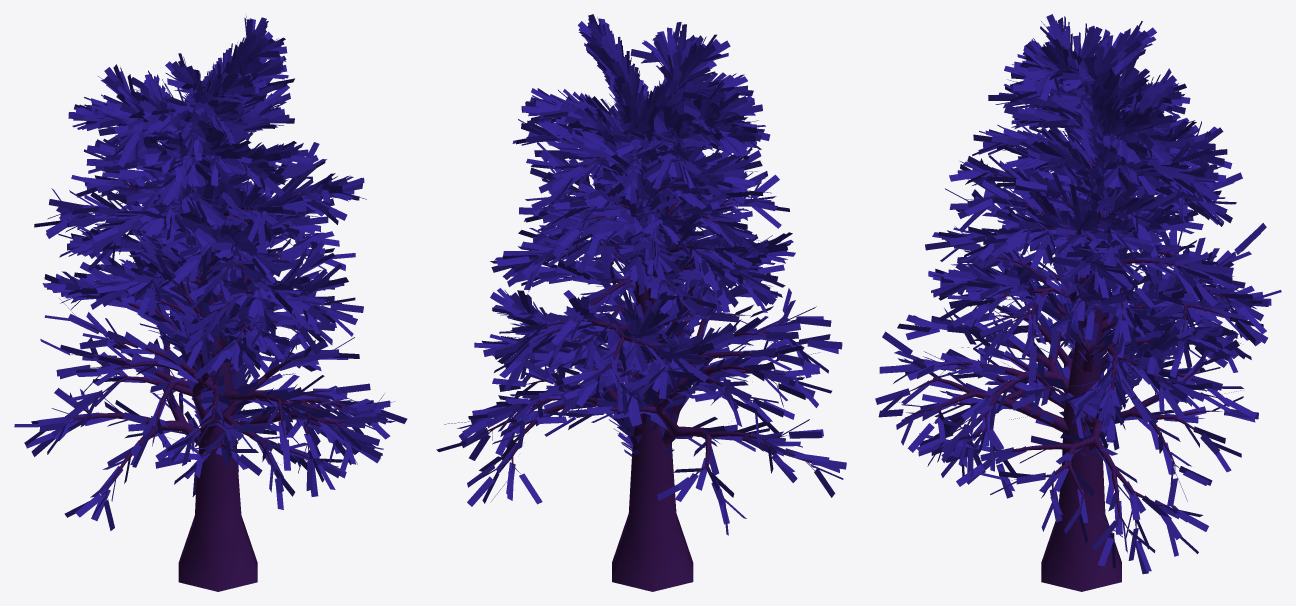
The model's file is FantasticTree.fbx.
3 views of the same model, side by side, from view 1: azimuth 30°, elevation 25°; view 2: azimuth 150°, elevation 25°; view 3: azimuth 270°, elevation 25° (orthographic). The views are drawn at different scales.
Parts seen in each view (by area): view 1: leaves, tree; view 2: leaves, tree; view 3: leaves, tree.
Boxes of the visible parts, x1,y1,x2,y2 form: leaves: [14, 14, 407, 530]; tree: [70, 90, 366, 591]; leaves: [436, 14, 846, 535]; tree: [474, 100, 813, 591]; leaves: [875, 14, 1281, 574]; tree: [904, 71, 1239, 591].
Bounding box in the file's own units: 1182 × 1724 × 1160.
